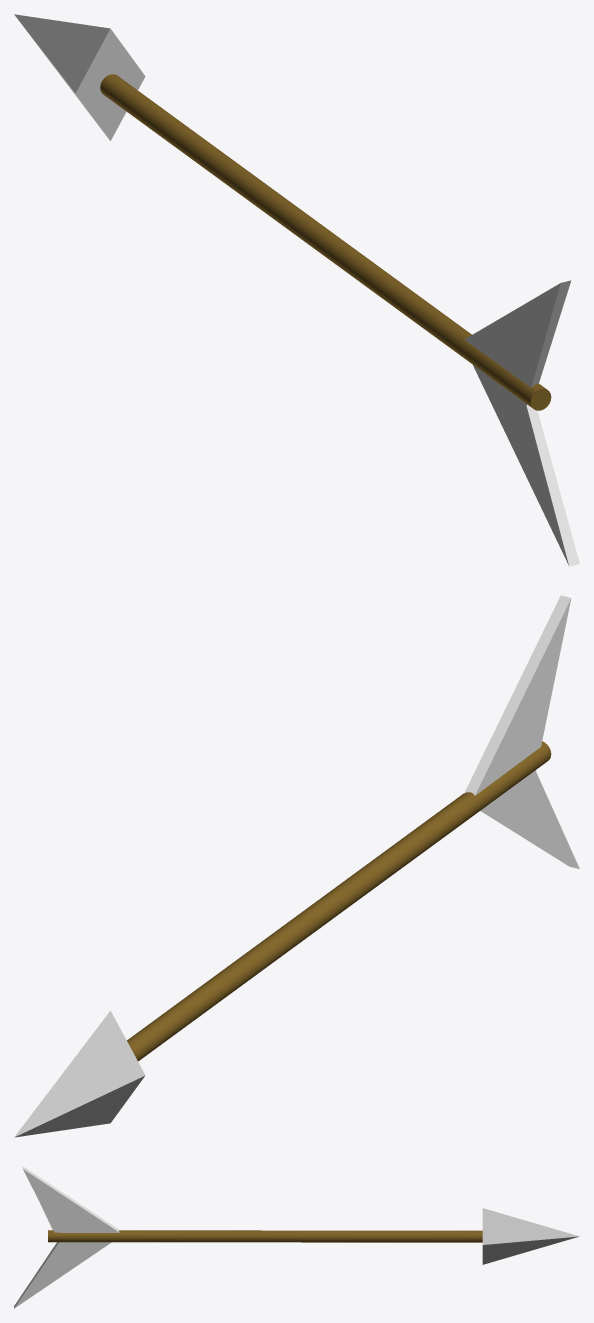
The model's file is ArrowMesh.fbx.
3 renders of one model, top to bottom at view 1: azimuth 30°, elevation 25°; view 2: azimuth 150°, elevation 25°; view 3: azimuth 270°, elevation 25°, orthographic. The views are drawn at different scales.
Visible parts, largest first — view 1: polySurface6; view 2: polySurface6; view 3: polySurface6.
Part boxes in pixels (<box>): polySurface6: <box>14,14,579,566</box>; polySurface6: <box>14,595,579,1137</box>; polySurface6: <box>14,1166,579,1308</box>.
Size of the model in its own units: 0.5595 by 2.12 by 7.76.
